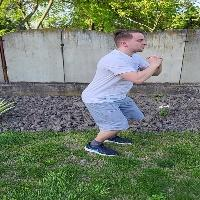squats: (70, 17, 168, 162)
